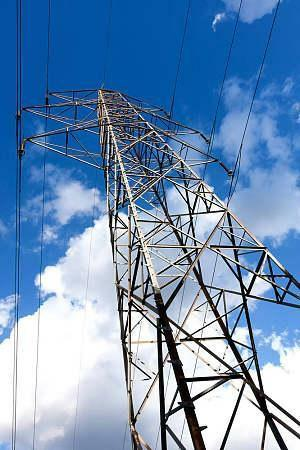power_tower: (19, 81, 300, 450)
